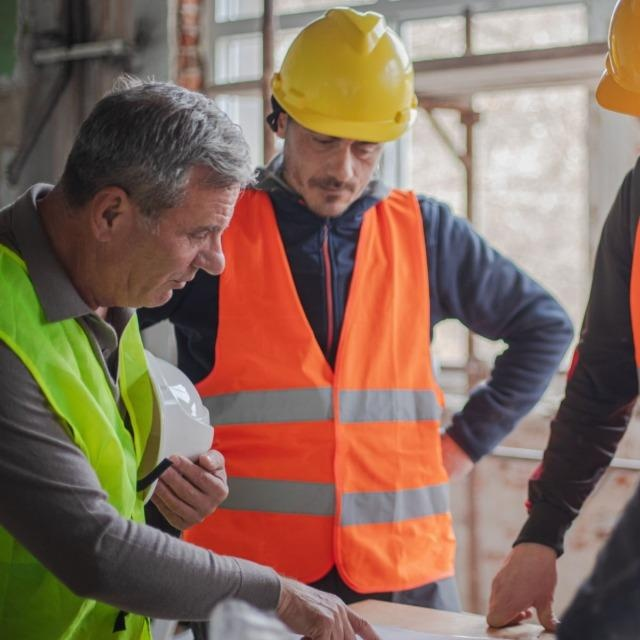Con_Casco: (268, 9, 423, 211)
Con_Chaleco: (221, 186, 458, 587)
Sin_Casco_Mascarrilla: (54, 83, 250, 308)
